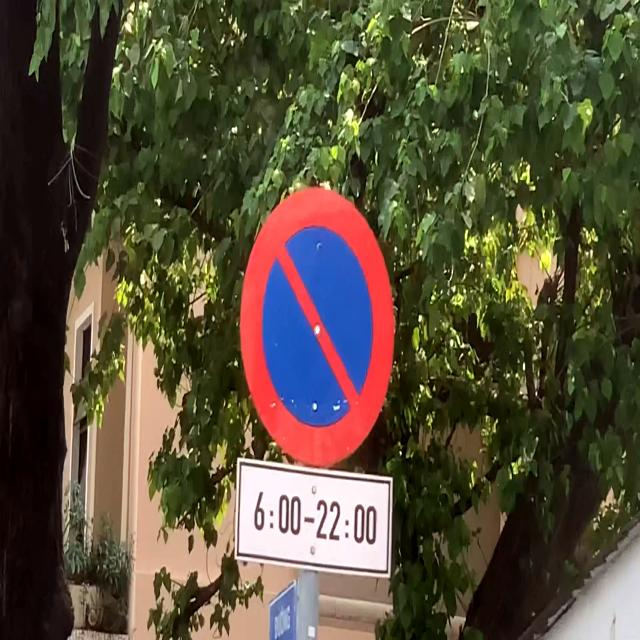P.131a: (239, 186, 396, 470)
